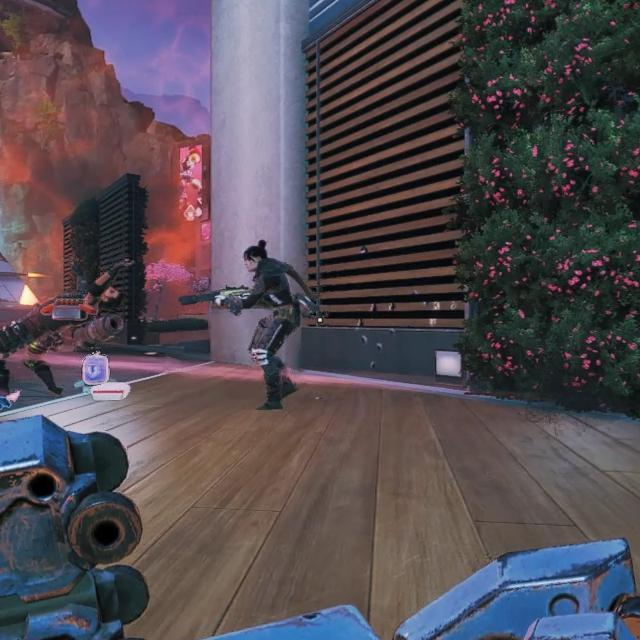avatar: (241, 238, 305, 414)
